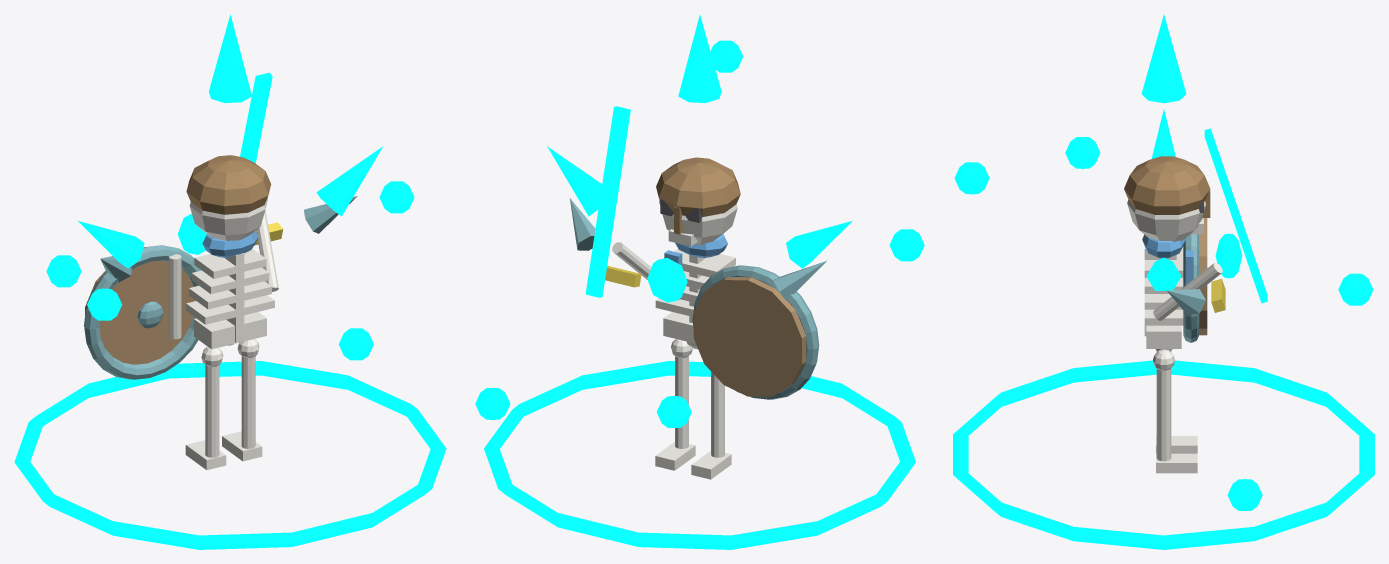
File: evolved_skeletons.glb
The picture shows the model from 3 angles, left to right: view 1: azimuth 30°, elevation 25°; view 2: azimuth 150°, elevation 25°; view 3: azimuth 270°, elevation 25°; orthographic projection.
Visible parts, largest first — view 1: evolved_skeletons; view 2: evolved_skeletons; view 3: evolved_skeletons.
Part boxes in pixels (x1=…): evolved_skeletons: x1=14, y1=14, x2=446, y2=549; evolved_skeletons: x1=475, y1=15, x2=924, y2=549; evolved_skeletons: x1=953, y1=15, x2=1374, y2=549.
Size of the model in its own units: 2.97 by 3.39 by 2.9.
